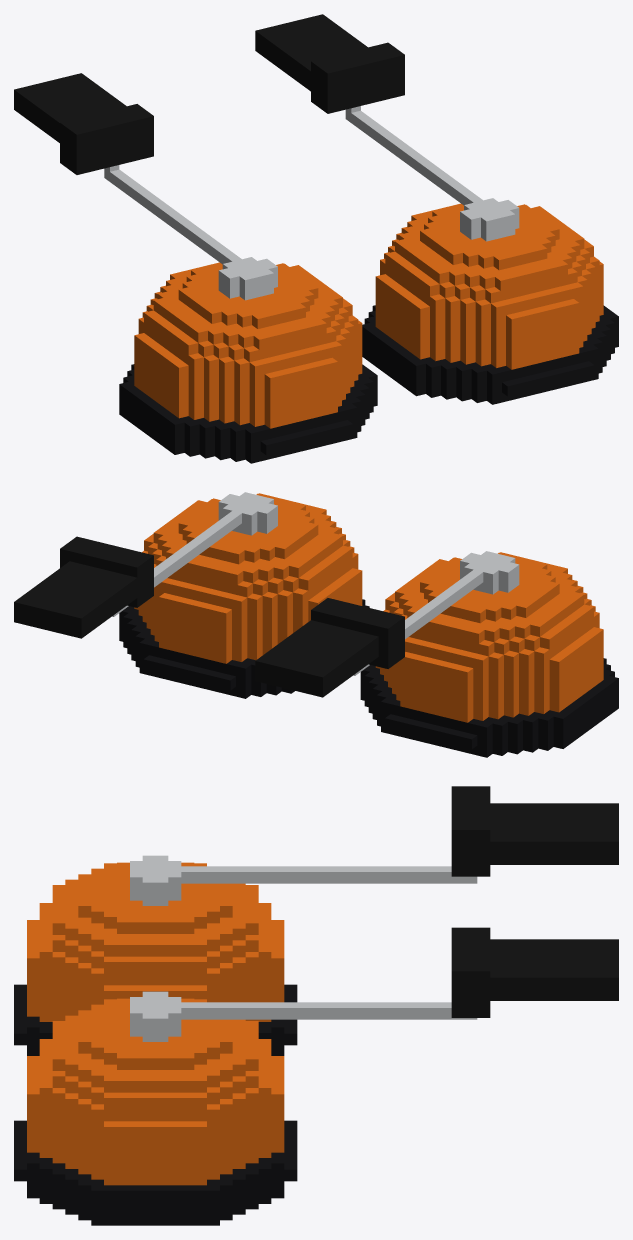
Rendered from attachable_ear_muffs_on.glb.
3 renders of one model, top to bottom at view 1: azimuth 30°, elevation 25°; view 2: azimuth 150°, elevation 25°; view 3: azimuth 270°, elevation 25°, orthographic. The views are drawn at different scales.
Visible parts, largest first — view 1: attachable_ear_muffs_on:compound; view 2: attachable_ear_muffs_on:compound; view 3: attachable_ear_muffs_on:compound.
Part boxes in pixels (x1,y1,x2,y2): attachable_ear_muffs_on:compound: (14,14,618,463); attachable_ear_muffs_on:compound: (14,492,618,757); attachable_ear_muffs_on:compound: (14,786,618,1225).
Bounding box in the file's own units: 0.184 × 0.076 × 0.188.
